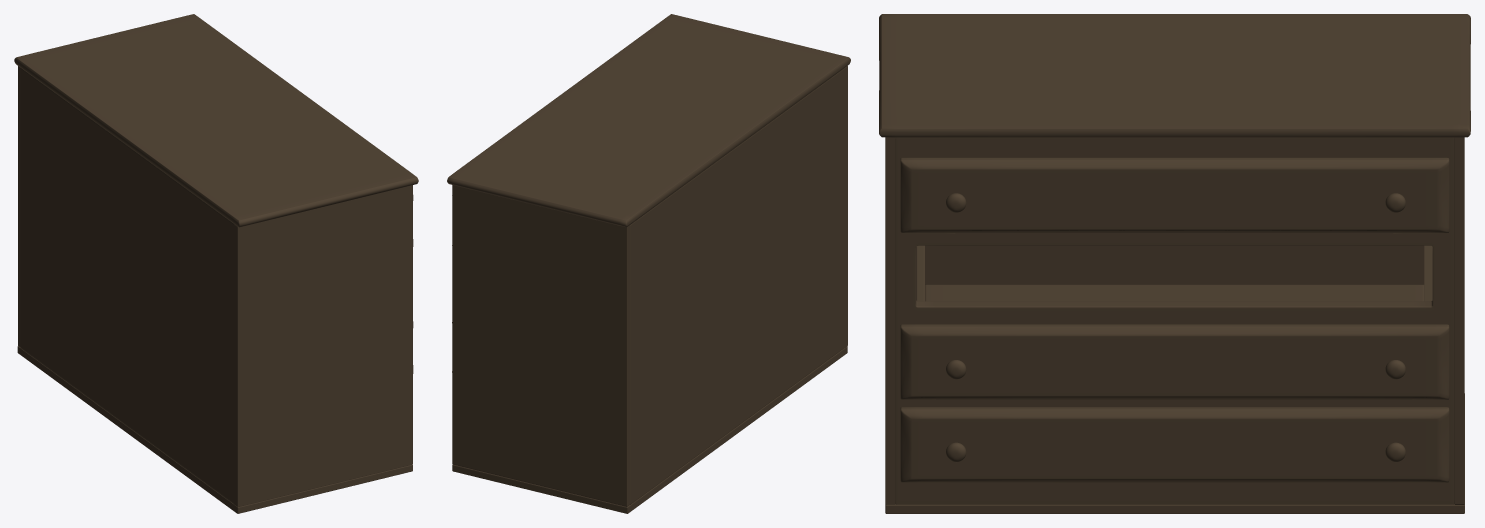
Rendered from chifonier_2.fbx.
3 renders of one model, left to right at view 1: azimuth 30°, elevation 25°; view 2: azimuth 150°, elevation 25°; view 3: azimuth 270°, elevation 25°, orthographic. The views are drawn at different scales.
Visible parts, largest first — view 1: Cube.030; view 2: Cube.030; view 3: Cube.030, Cube.033, Cube.036, Cube.034.
Part boxes in pixels (x1,y1,x2,y2): Cube.030: [14, 14, 418, 513]; Cube.030: [447, 14, 850, 513]; Cube.030: [879, 14, 1470, 513]; Cube.033: [900, 245, 1449, 399]; Cube.036: [900, 157, 1449, 233]; Cube.034: [900, 407, 1449, 482].
Size of the model in its own units: 195 by 281 by 389.
